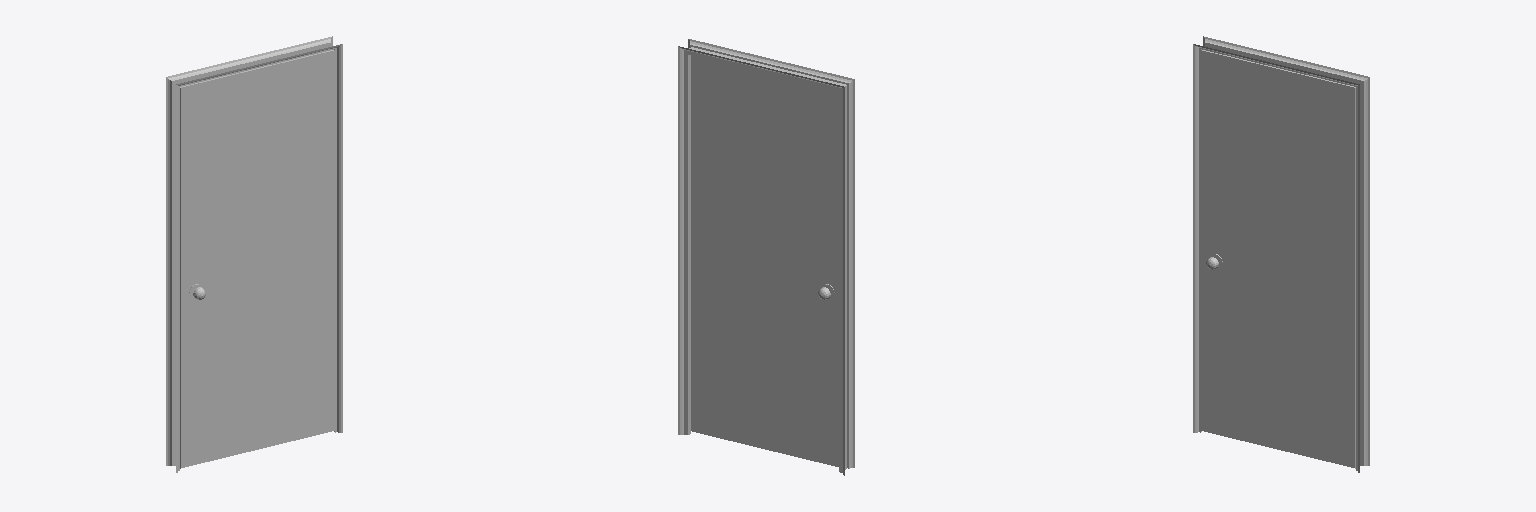
File: mdl_door_02.obj
3 renders of one model, left to right at view 1: azimuth 30°, elevation 25°; view 2: azimuth 150°, elevation 25°; view 3: azimuth 330°, elevation 25°, orthographic.
Visible parts, largest first — view 1: Object003; view 2: Object003; view 3: Object003.
Part boxes in pixels (left/top/right/bottom): Object003: left=166, top=36, right=342, bottom=472; Object003: left=678, top=39, right=854, bottom=475; Object003: left=1193, top=36, right=1369, bottom=472.
Bounding box in the file's own units: 94 × 210 × 16.43.